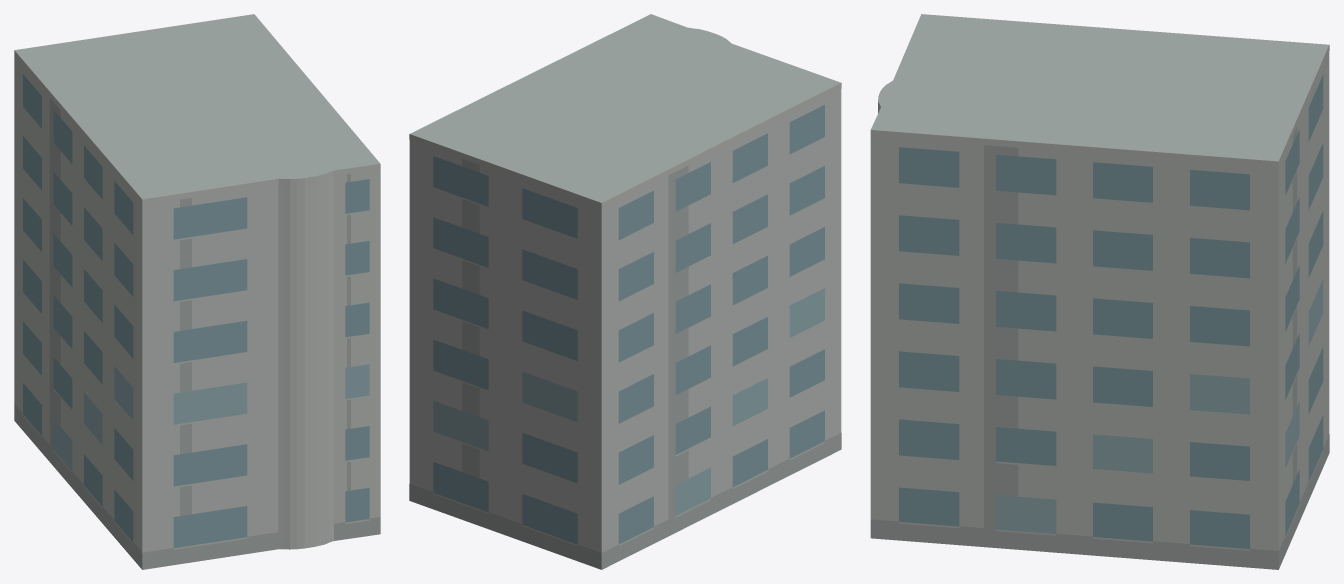
Rendered from survey-upis-32884244.glb.
3 views of the same model, side by side, from view 1: azimuth 30°, elevation 25°; view 2: azimuth 150°, elevation 25°; view 3: azimuth 270°, elevation 25° (orthographic). The views are drawn at different scales.
Parts seen in each view (by area): view 1: survey-upis-32884244.tmp; view 2: survey-upis-32884244.tmp; view 3: survey-upis-32884244.tmp.
Part boxes in pixels (bbox=[...]): survey-upis-32884244.tmp: bbox=[14, 14, 380, 569]; survey-upis-32884244.tmp: bbox=[409, 14, 841, 569]; survey-upis-32884244.tmp: bbox=[870, 14, 1329, 569].
Size of the model in its own units: 11.93 by 15.4 by 15.69.
